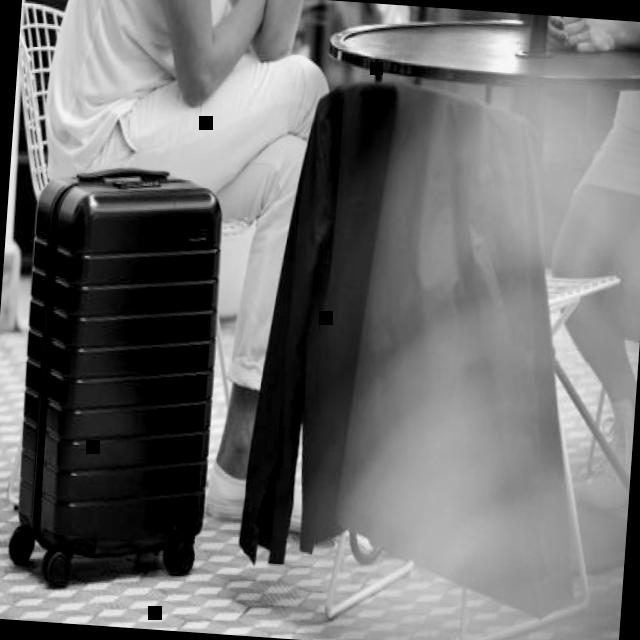luggage: (8, 159, 231, 568)
